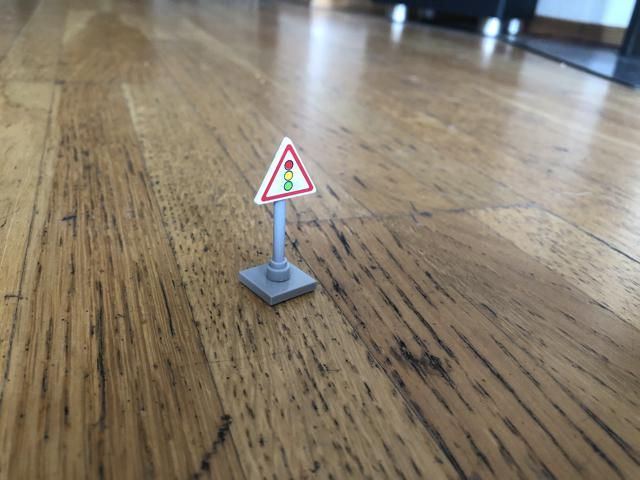lichtzeichenanlage: (253, 137, 316, 206)
